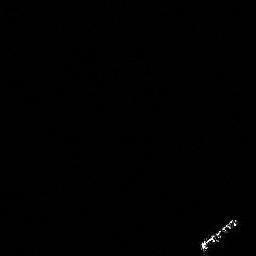ship: (195, 219, 244, 249)
